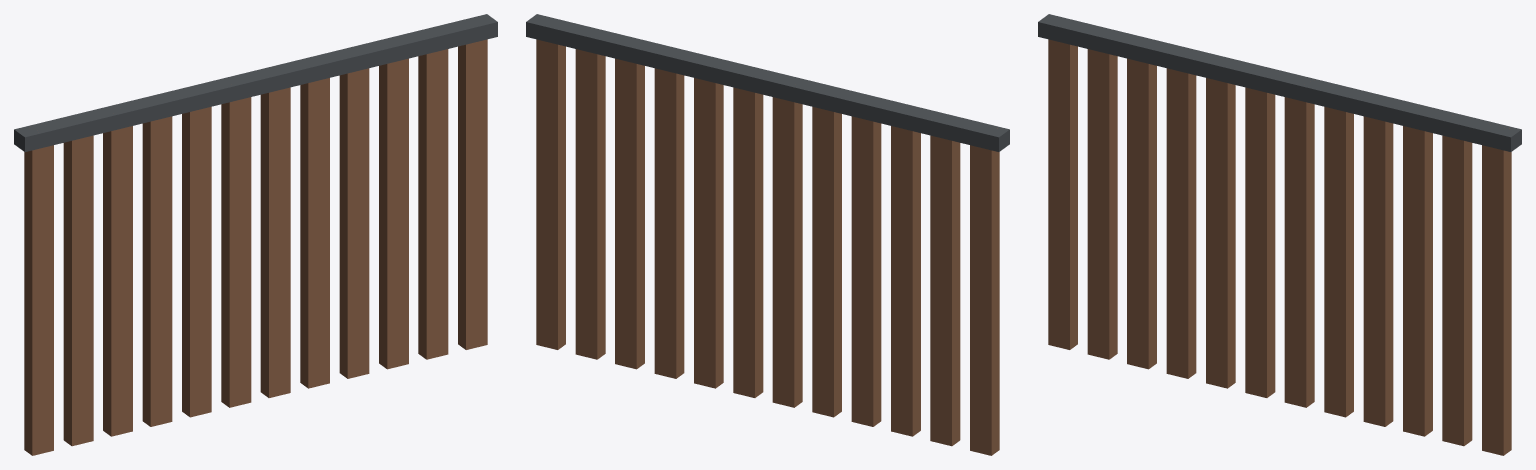
File: bh_villa_gate_vehicle_01_lod0.glb
3 renders of one model, left to right at view 1: azimuth 30°, elevation 25°; view 2: azimuth 150°, elevation 25°; view 3: azimuth 330°, elevation 25°, orthographic.
Parts seen in each view (by area): view 1: bh_villa_gate_vehicle_01_frame_top, bh_villa_gate_vehicle_01_slat_05, bh_villa_gate_vehicle_01_slat_10, bh_villa_gate_vehicle_01_slat_08, bh_villa_gate_vehicle_01_slat_03, bh_villa_gate_vehicle_01_slat_01, bh_villa_gate_vehicle_01_slat_06, bh_villa_gate_vehicle_01_slat_09, bh_villa_gate_vehicle_01_slat_04, bh_villa_gate_vehicle_01_slat_11, bh_villa_gate_vehicle_01_slat_02, bh_villa_gate_vehicle_01_slat_07 (+1 smaller); view 2: bh_villa_gate_vehicle_01_frame_top, bh_villa_gate_vehicle_01_slat_05, bh_villa_gate_vehicle_01_slat_10, bh_villa_gate_vehicle_01_slat_08, bh_villa_gate_vehicle_01_slat_03, bh_villa_gate_vehicle_01_slat_01, bh_villa_gate_vehicle_01_slat_06, bh_villa_gate_vehicle_01_slat_09, bh_villa_gate_vehicle_01_slat_04, bh_villa_gate_vehicle_01_slat_11, bh_villa_gate_vehicle_01_slat_00, bh_villa_gate_vehicle_01_slat_02 (+1 smaller); view 3: bh_villa_gate_vehicle_01_frame_top, bh_villa_gate_vehicle_01_slat_01, bh_villa_gate_vehicle_01_slat_06, bh_villa_gate_vehicle_01_slat_03, bh_villa_gate_vehicle_01_slat_08, bh_villa_gate_vehicle_01_slat_10, bh_villa_gate_vehicle_01_slat_05, bh_villa_gate_vehicle_01_slat_02, bh_villa_gate_vehicle_01_slat_00, bh_villa_gate_vehicle_01_slat_07, bh_villa_gate_vehicle_01_slat_11, bh_villa_gate_vehicle_01_slat_04 (+1 smaller).
Boxes of the visible parts, x1,y1,x2,y2 form: bh_villa_gate_vehicle_01_frame_top: (14,14,497,151); bh_villa_gate_vehicle_01_slat_05: (221,97,251,407); bh_villa_gate_vehicle_01_slat_10: (418,49,448,359); bh_villa_gate_vehicle_01_slat_08: (339,68,369,378); bh_villa_gate_vehicle_01_slat_03: (142,116,172,426); bh_villa_gate_vehicle_01_slat_01: (63,135,93,446); bh_villa_gate_vehicle_01_slat_06: (260,87,290,397); bh_villa_gate_vehicle_01_slat_09: (379,58,408,369); bh_villa_gate_vehicle_01_slat_04: (182,106,211,417); bh_villa_gate_vehicle_01_slat_11: (458,39,487,349); bh_villa_gate_vehicle_01_slat_02: (103,126,132,436); bh_villa_gate_vehicle_01_slat_07: (300,78,329,388); bh_villa_gate_vehicle_01_frame_top: (526,14,1009,151); bh_villa_gate_vehicle_01_slat_05: (772,97,802,407); bh_villa_gate_vehicle_01_slat_10: (575,49,605,359); bh_villa_gate_vehicle_01_slat_08: (654,68,684,378); bh_villa_gate_vehicle_01_slat_03: (851,116,881,426); bh_villa_gate_vehicle_01_slat_01: (930,135,960,446); bh_villa_gate_vehicle_01_slat_06: (733,87,763,397); bh_villa_gate_vehicle_01_slat_09: (615,58,644,369); bh_villa_gate_vehicle_01_slat_04: (812,106,841,417); bh_villa_gate_vehicle_01_slat_11: (536,39,565,349); bh_villa_gate_vehicle_01_slat_00: (970,128,999,455); bh_villa_gate_vehicle_01_slat_02: (891,126,920,436); bh_villa_gate_vehicle_01_frame_top: (1038,14,1521,151); bh_villa_gate_vehicle_01_slat_01: (1087,49,1117,359); bh_villa_gate_vehicle_01_slat_06: (1284,97,1314,407); bh_villa_gate_vehicle_01_slat_03: (1166,68,1196,378); bh_villa_gate_vehicle_01_slat_08: (1363,116,1393,426); bh_villa_gate_vehicle_01_slat_10: (1442,135,1472,446); bh_villa_gate_vehicle_01_slat_05: (1245,87,1275,397); bh_villa_gate_vehicle_01_slat_02: (1127,58,1156,369); bh_villa_gate_vehicle_01_slat_00: (1048,39,1077,349); bh_villa_gate_vehicle_01_slat_07: (1324,106,1353,417); bh_villa_gate_vehicle_01_slat_11: (1482,127,1511,455); bh_villa_gate_vehicle_01_slat_04: (1206,78,1235,388).
Size of the model in its own units: 4 by 2.6 by 0.16.
